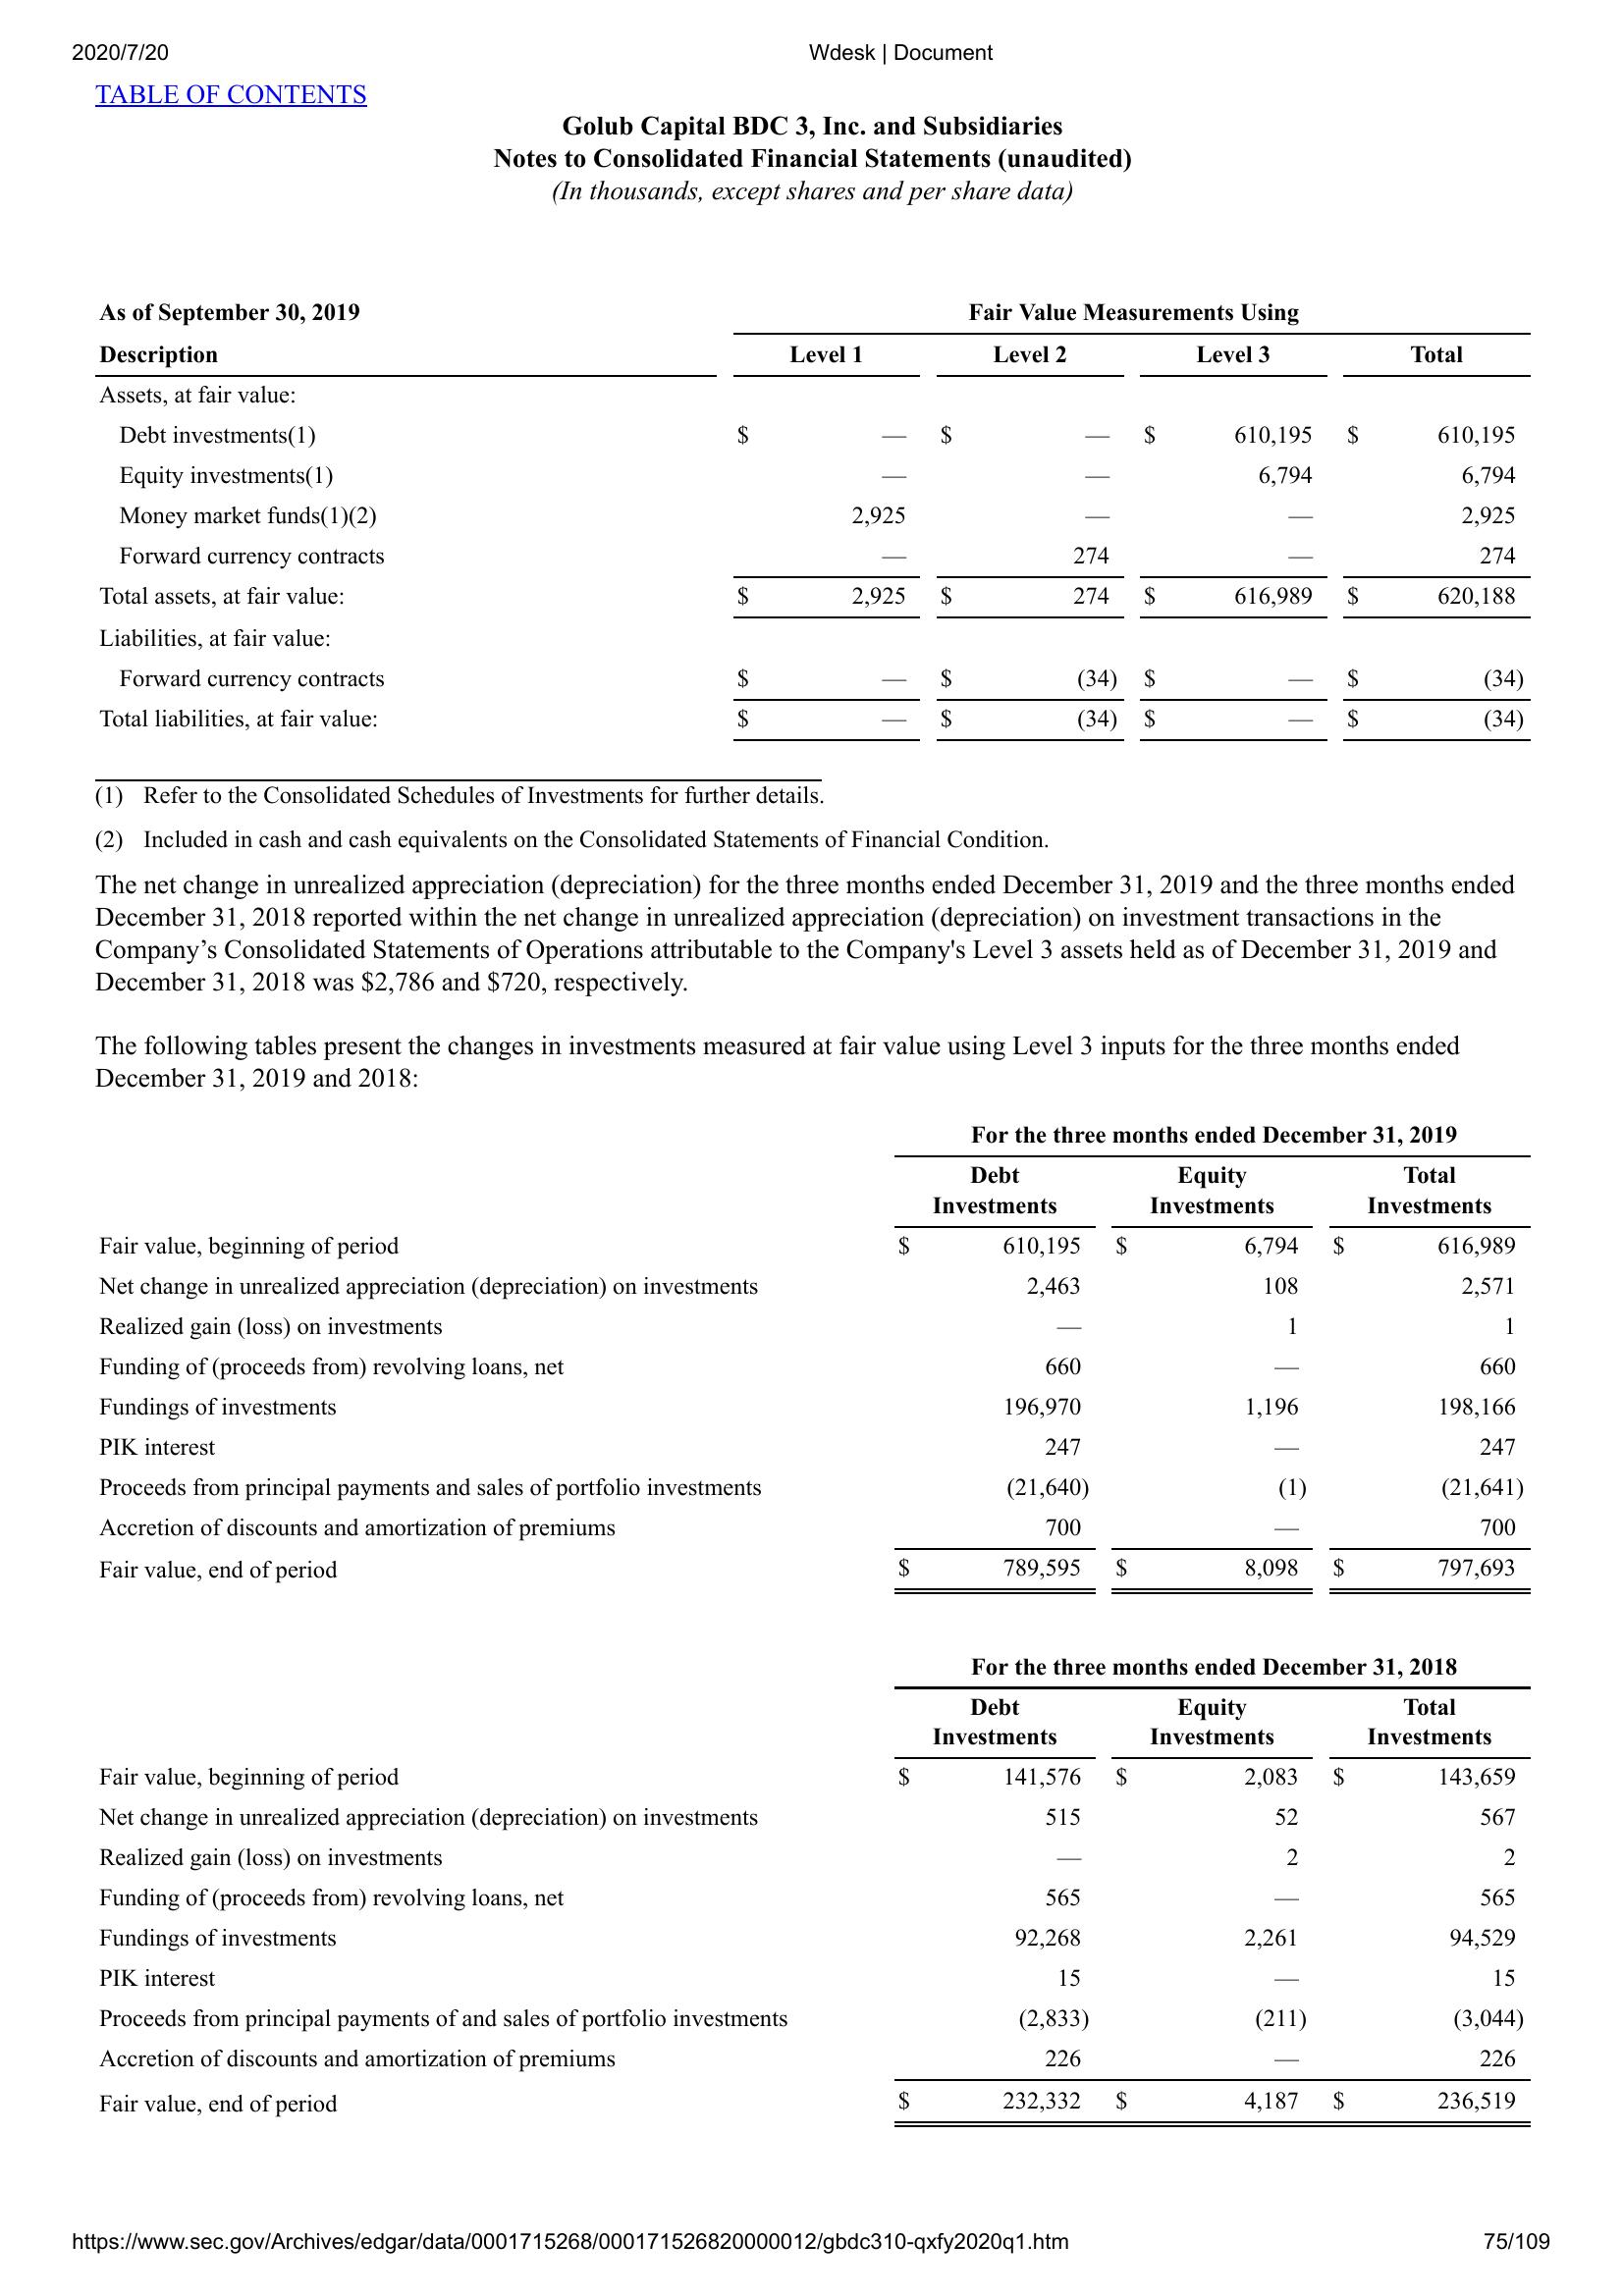table: (95, 1108, 1542, 1606), (95, 1648, 1544, 2142), (90, 297, 1546, 748)
